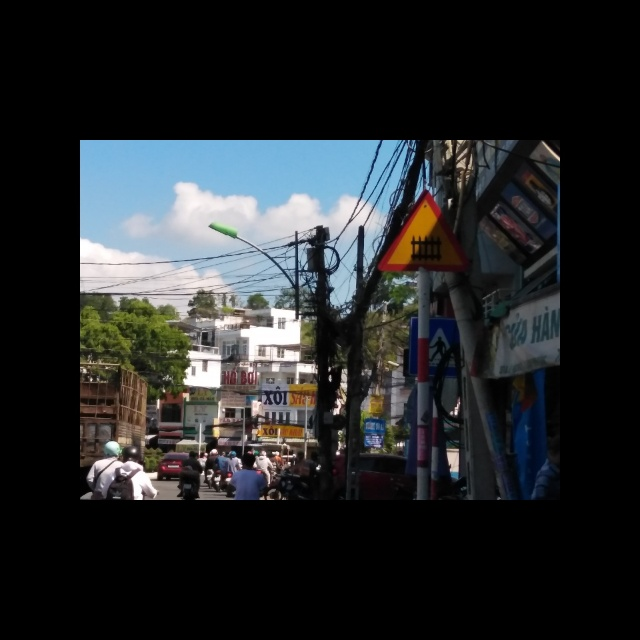Giao nhau với đường sắt có rào chắn: (377, 189, 470, 271)
